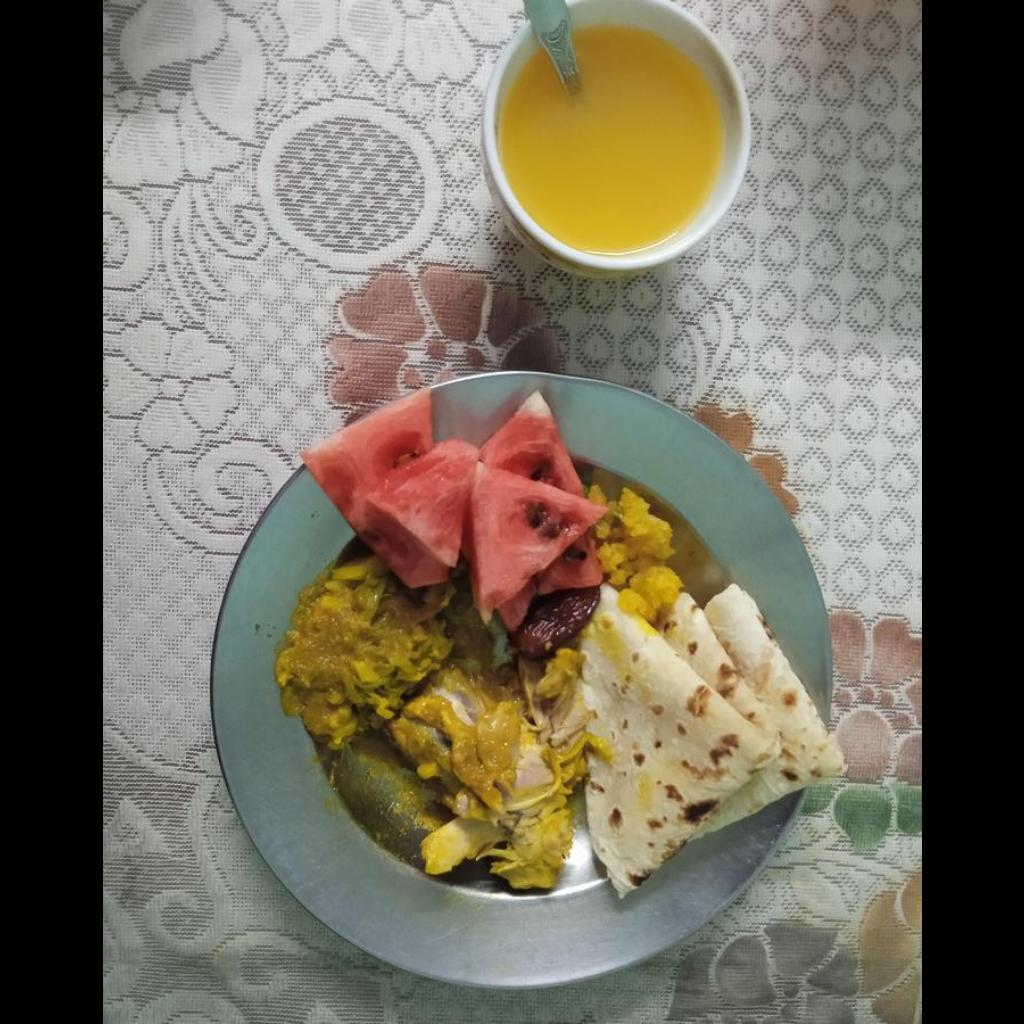burinda: (588, 485, 682, 624)
chicken: (389, 656, 578, 899)
juice: (498, 19, 717, 246)
ruti: (587, 586, 849, 898)
vegetable: (275, 556, 454, 751)
watermelon: (299, 382, 595, 619)
